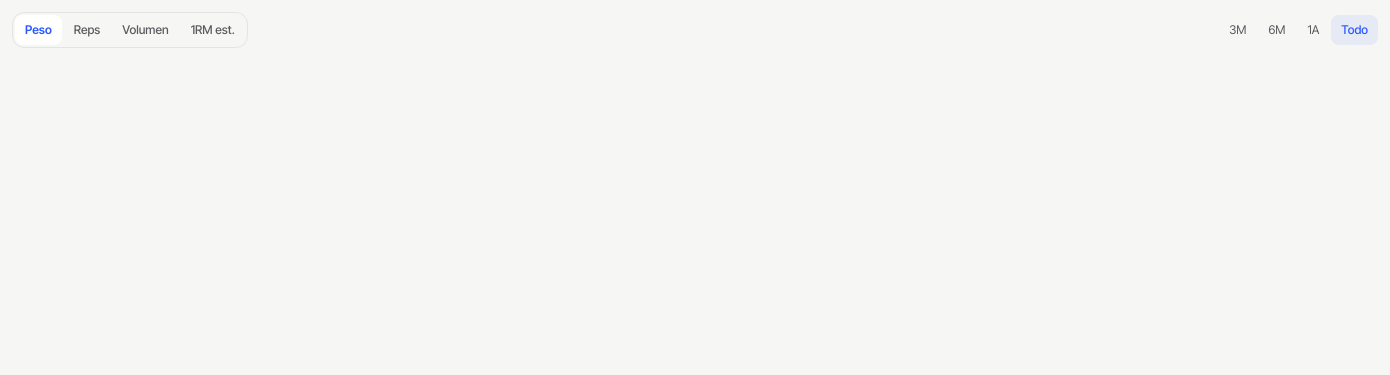
Scenario: ExerciseHistoryChartComponent › range › draws the chart again when Todo follows a range with no sets
Click the button "3M": (1238, 30) [1219,15,1256,45]
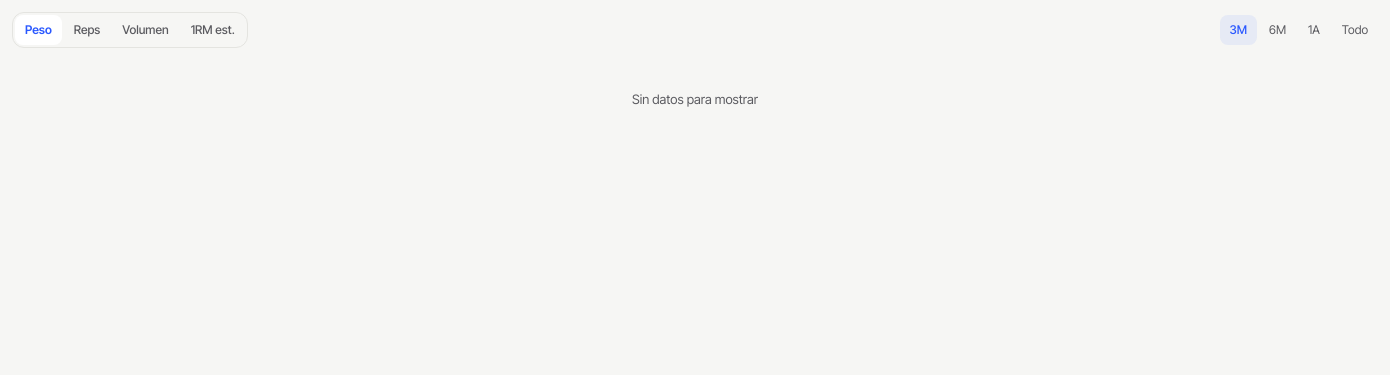
Check: the text "Sin datos para mostrar" is shown, box [632,91,758,107]
Click the button "Todo": (1355, 30) [1332,15,1378,45]
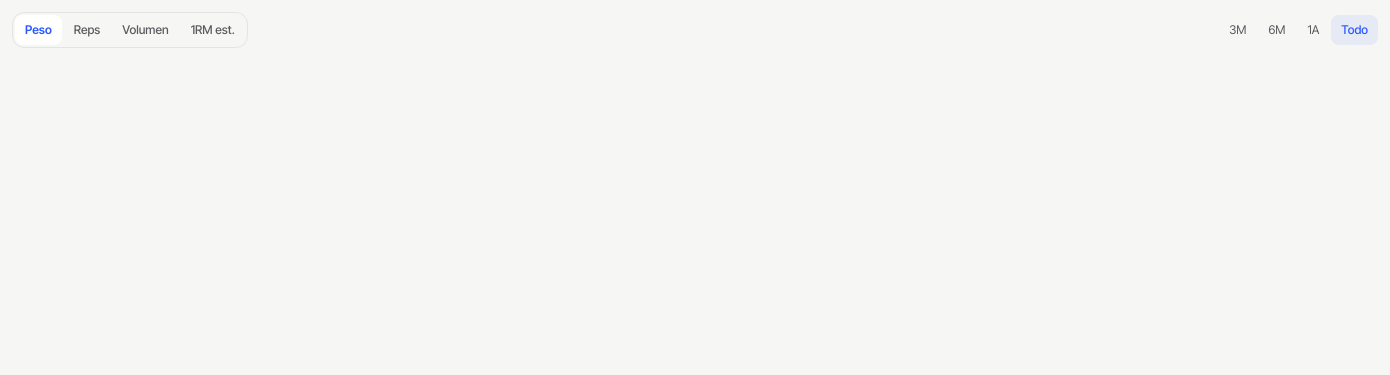
Check: the text "Sin datos para mostrar" is gone
